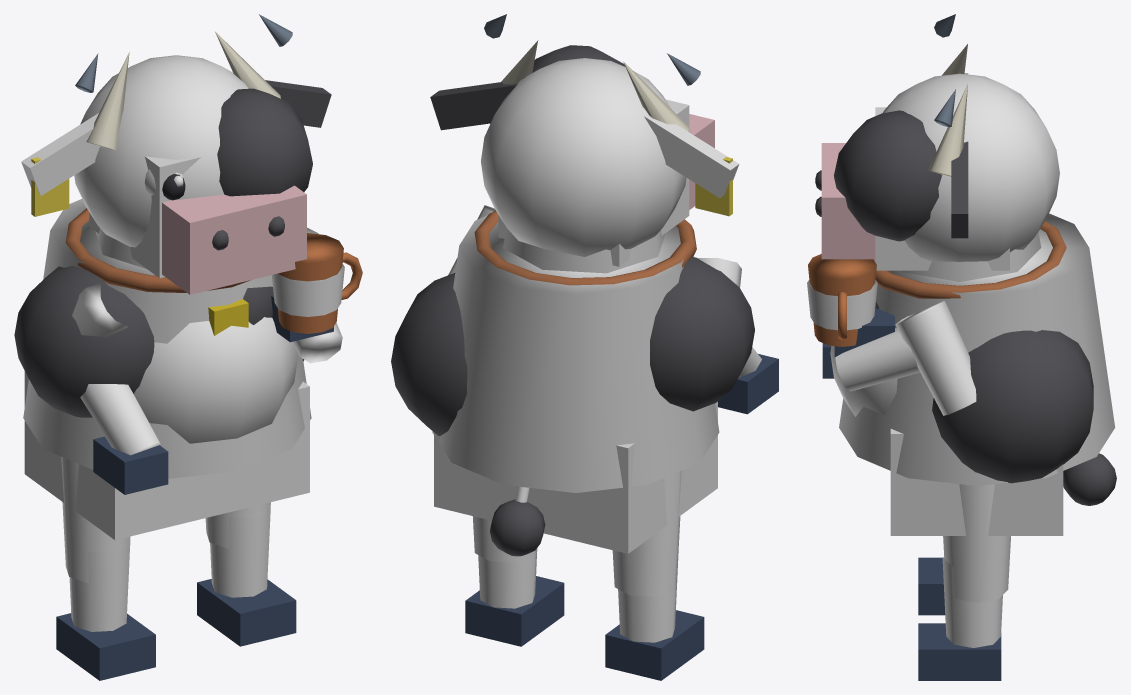
The model's file is cow-17.glb.
3 renders of one model, left to right at view 1: azimuth 30°, elevation 25°; view 2: azimuth 150°, elevation 25°; view 3: azimuth 270°, elevation 25°, orthographic. The views are drawn at different scales.
Visible parts, largest first — view 1: Root; view 2: Root; view 3: Root.
Boxes of the visible parts, left/top/right/bottom form: Root: left=14, top=14, right=362, bottom=680; Root: left=391, top=14, right=778, bottom=680; Root: left=807, top=14, right=1116, bottom=680.
Size of the model in its own units: 2 by 3.73 by 1.8.
